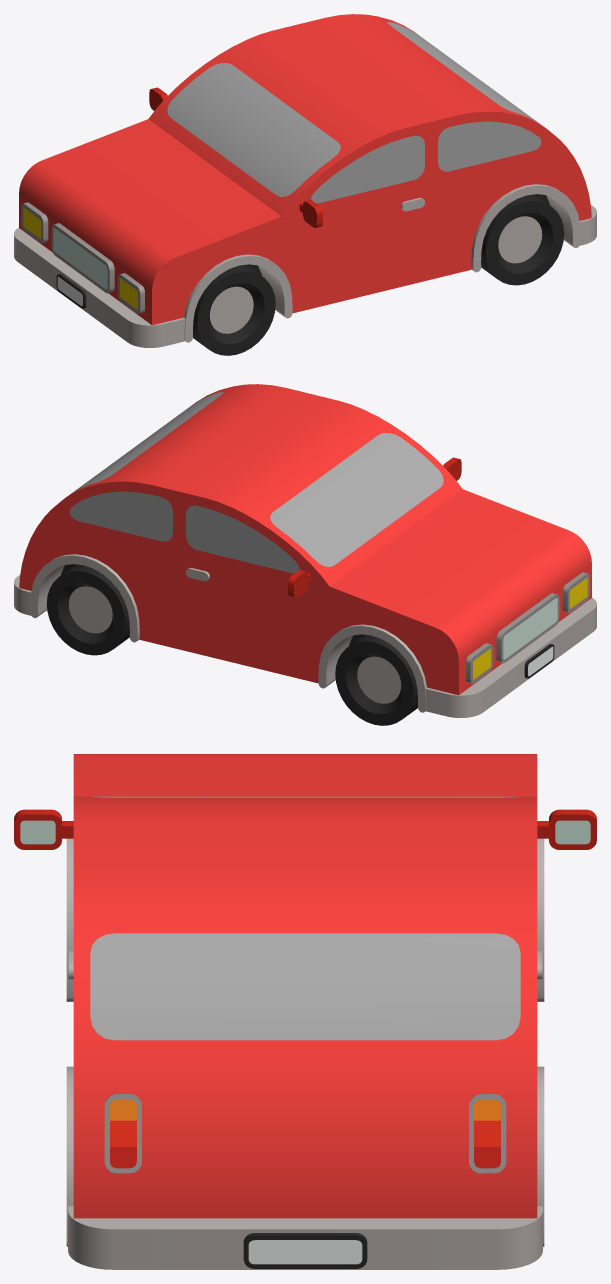
The model's file is City Car Hatchback Mod.fbx.
3 renders of one model, top to bottom at view 1: azimuth 30°, elevation 25°; view 2: azimuth 150°, elevation 25°; view 3: azimuth 270°, elevation 25°, orthographic. The views are drawn at different scales.
Parts seen in each view (by area): view 1: City_Car_Hatchback, Wheels_Back, Wheels_Front; view 2: City_Car_Hatchback, Wheels_Back, Wheels_Front; view 3: City_Car_Hatchback.
Boxes of the visible parts, <box> form: City_Car_Hatchback: <box>14,14,596,347</box>; Wheels_Back: <box>481,194,564,285</box>; Wheels_Front: <box>193,264,275,355</box>; City_Car_Hatchback: <box>14,384,596,717</box>; Wheels_Back: <box>46,564,129,655</box>; Wheels_Front: <box>335,634,417,725</box>; City_Car_Hatchback: <box>14,754,596,1269</box>.
Size of the model in its own units: 845 by 318 by 520.
